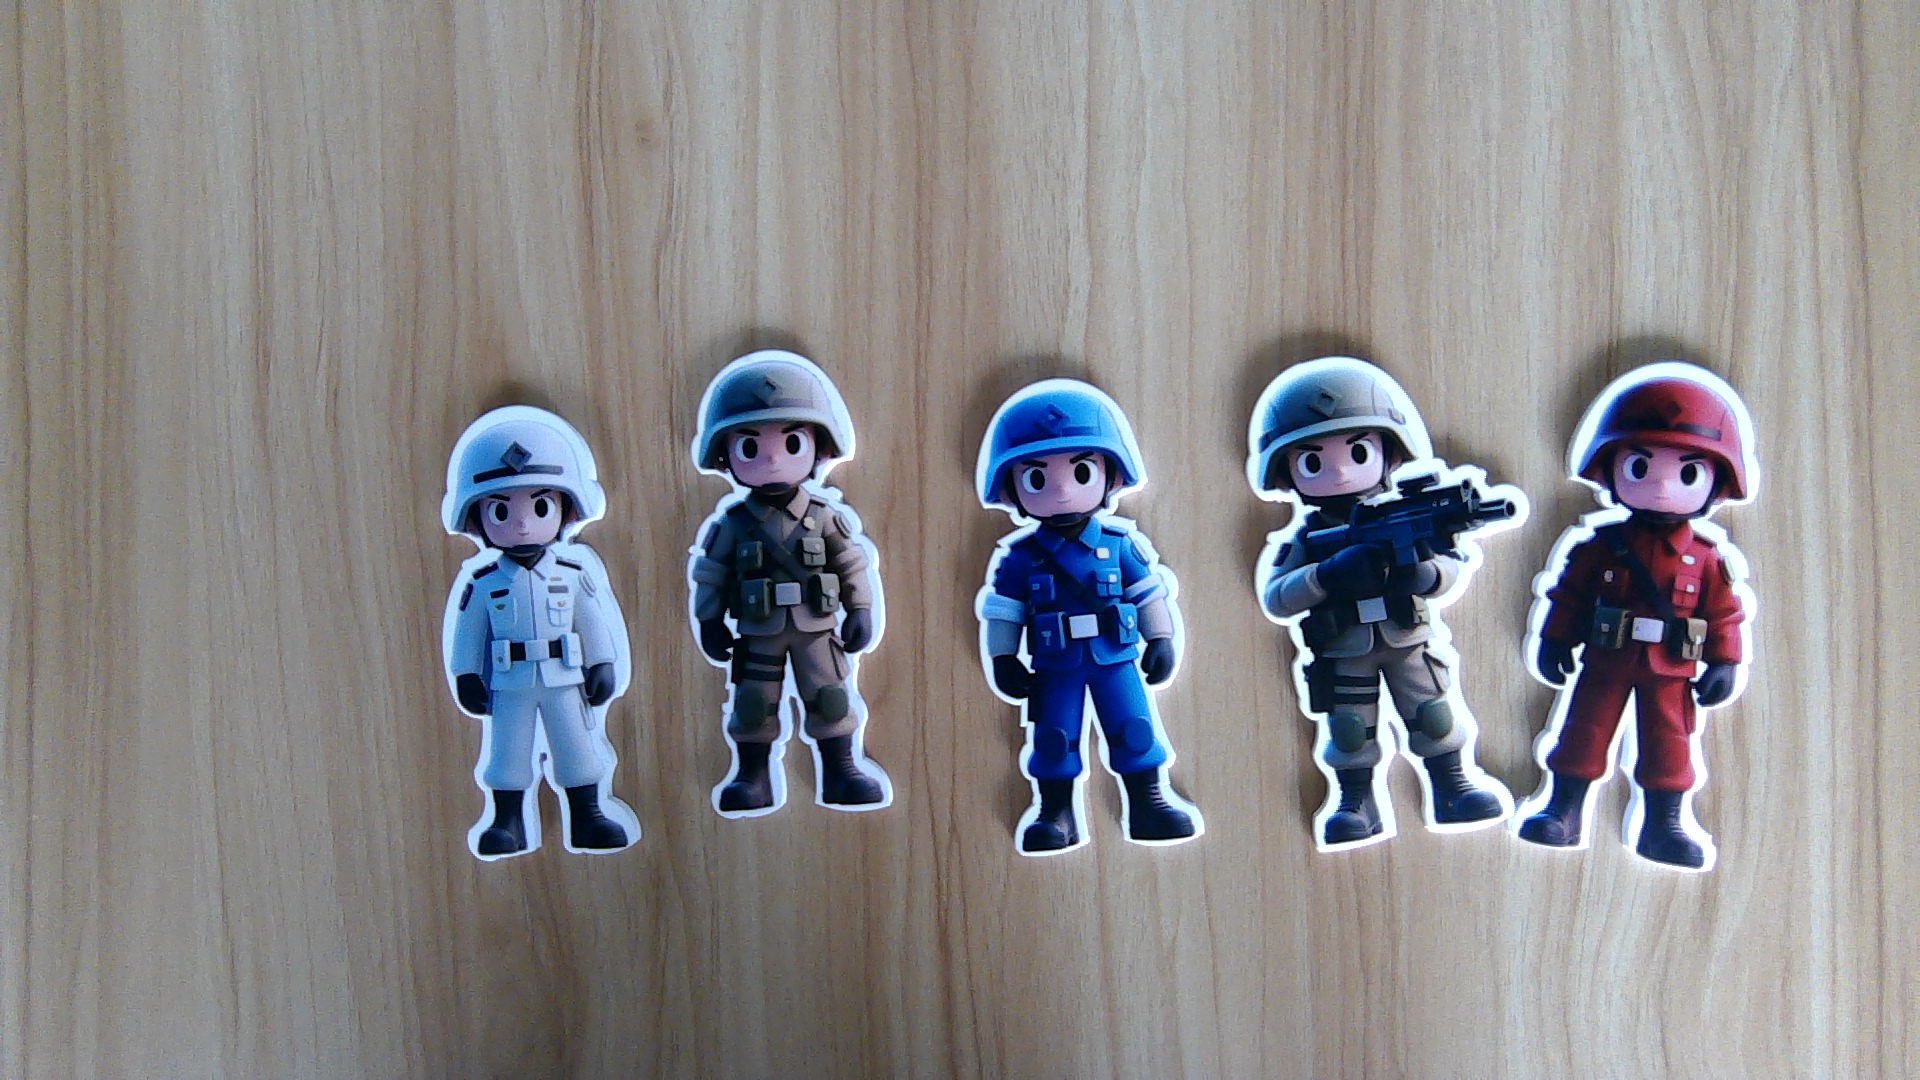人质: (436, 549, 653, 858)
友军: (1241, 504, 1514, 847), (683, 492, 895, 814)
敌人1: (1520, 506, 1764, 874)
敌人2: (965, 522, 1205, 858)
